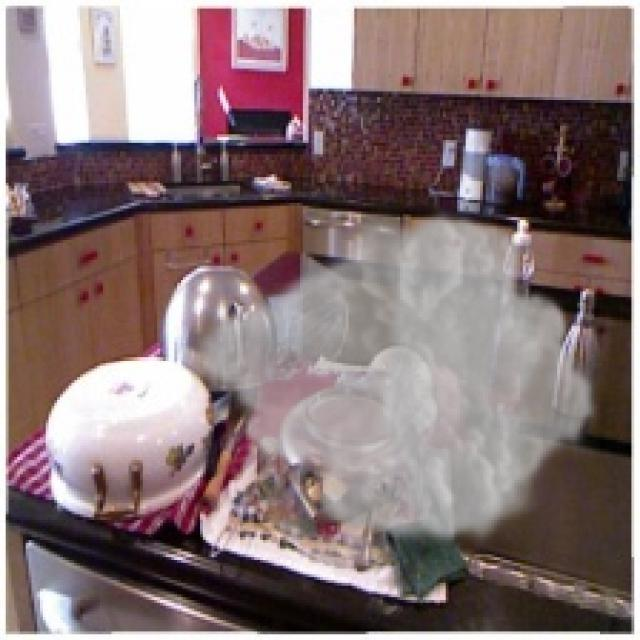Smoke: (191, 203, 600, 552)
